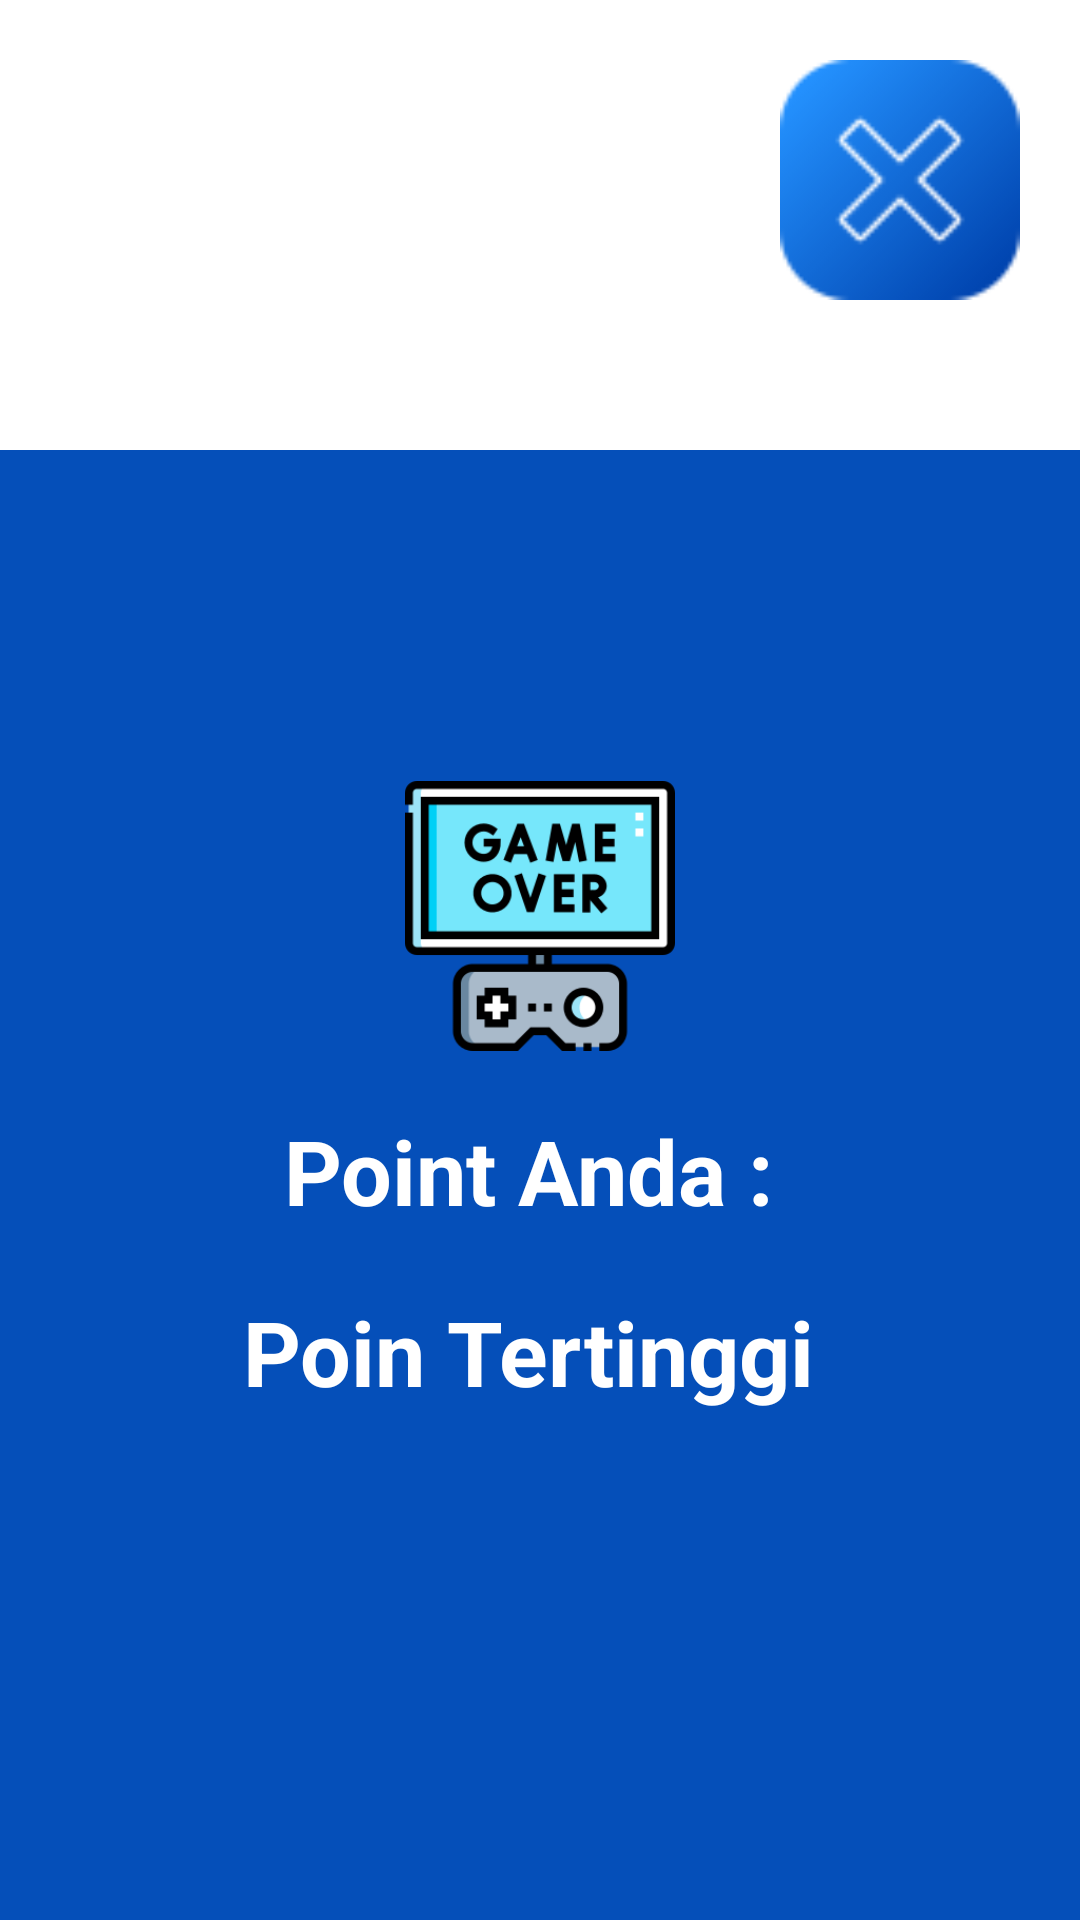

Icon click points for this 1080px x 1920px phone screenshot, format point (x, y):
delete: point (900, 180)
